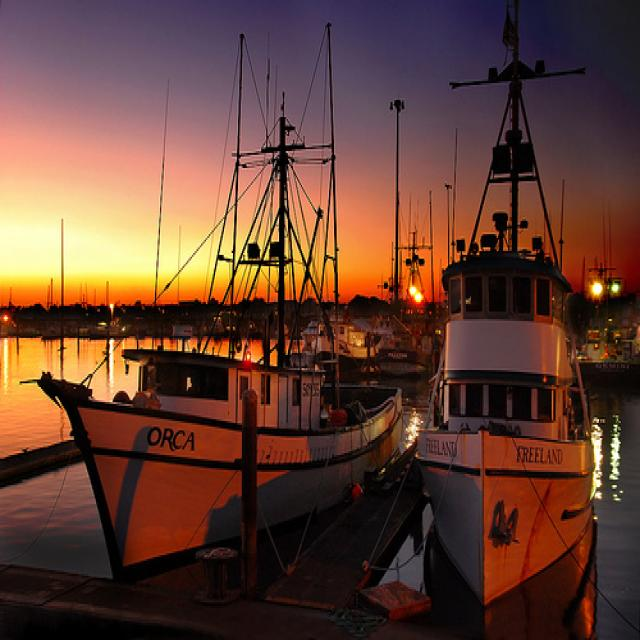Boat: (35, 45, 421, 614), (422, 17, 617, 638)
